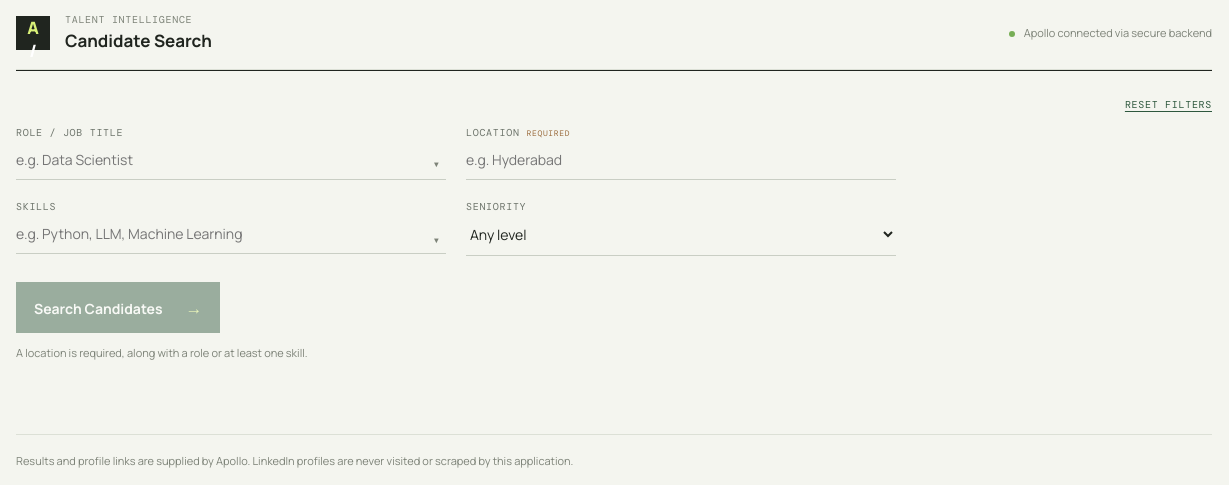
Scenario: Reset filters clears every field without searching
Step 1. Type "java developer" into the dropdown labelled "Role / Job Title ▾" → [231, 160], box [16,139,446,180]
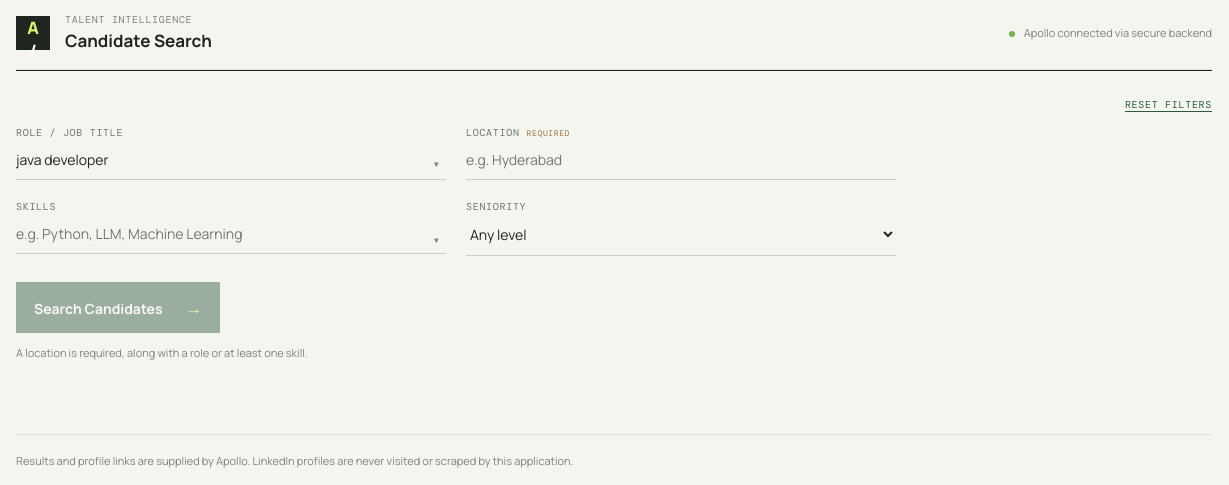
Step 2. Type "delhi" into the field labelled "Location Required" → [681, 160], box [466,139,896,180]
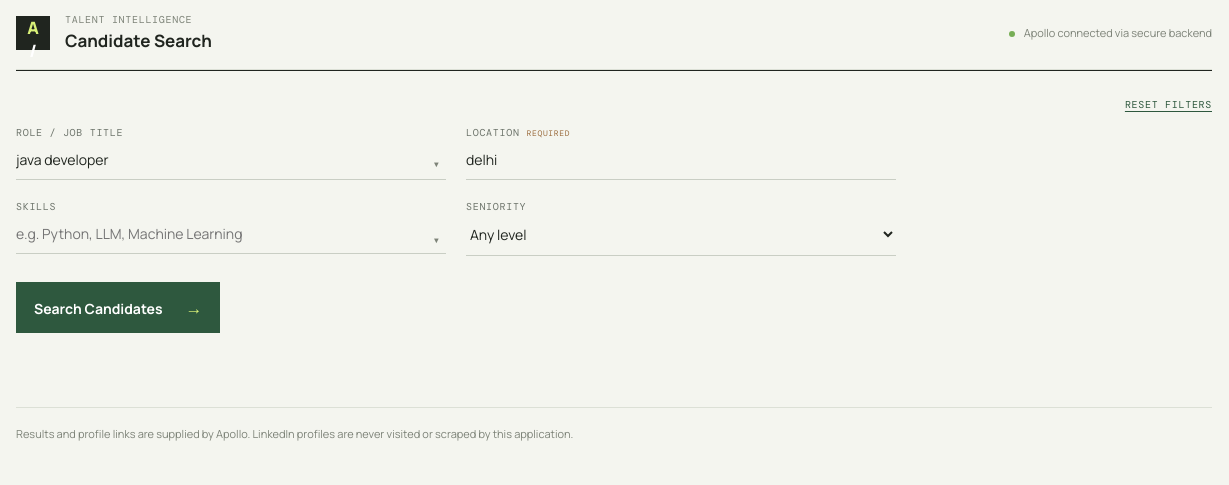
Step 3. Click the button "Reset filters" → [1168, 104], box [1125,95,1212,114]
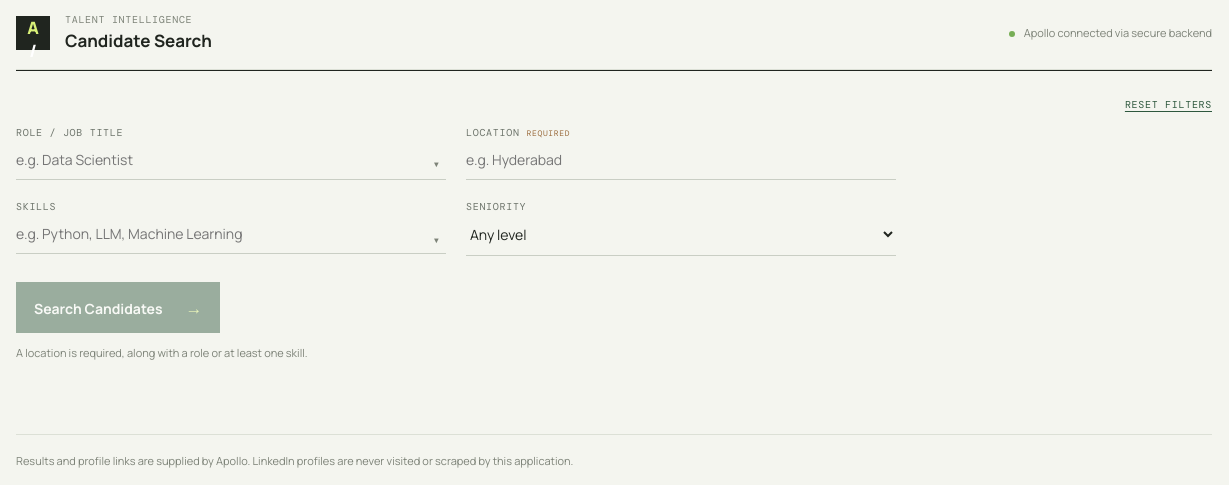
expect the dropdown labelled "Role / Job Title ▾" is empty: met, box [16,139,446,180]
expect the field labelled "Location Required" is empty: met, box [466,139,896,180]
